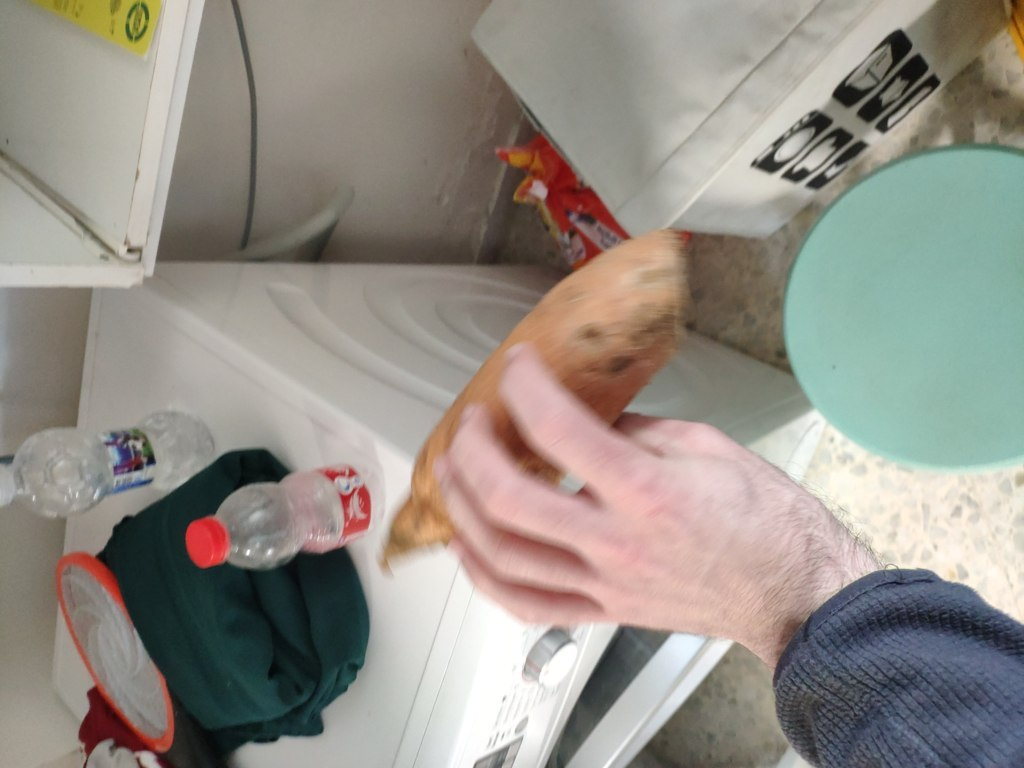Sweet Potato: (391, 250, 679, 591)
